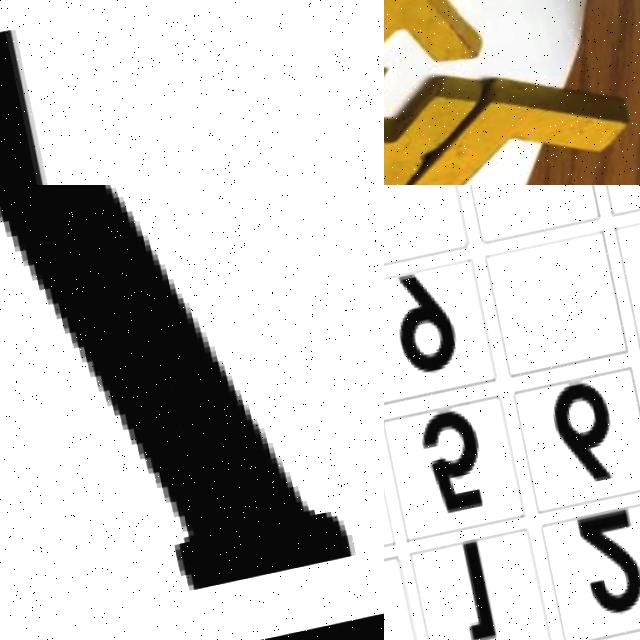1: (440, 539, 503, 640)
2: (565, 507, 640, 630)
5: (409, 405, 493, 524)
6: (544, 379, 621, 495)
9: (384, 263, 461, 382)
J: (0, 185, 355, 640)
L: (392, 65, 640, 185)
R: (384, 40, 501, 185)
X: (384, 0, 524, 86)
